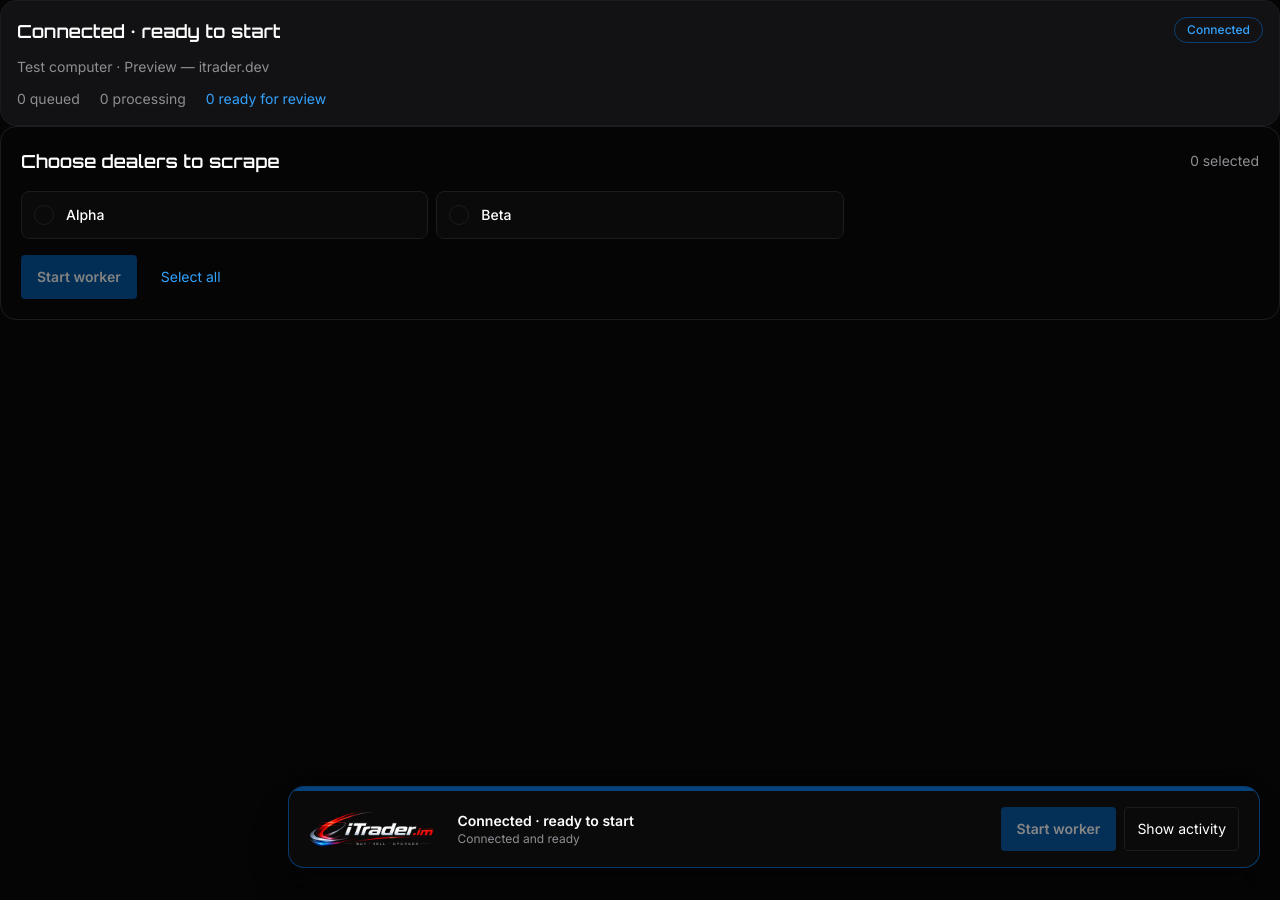
it: does not start when every queue fails and keeps partial failures when one succeeds
Click the checkbox labelled "Alpha": [225, 215] box [21,191,428,239]
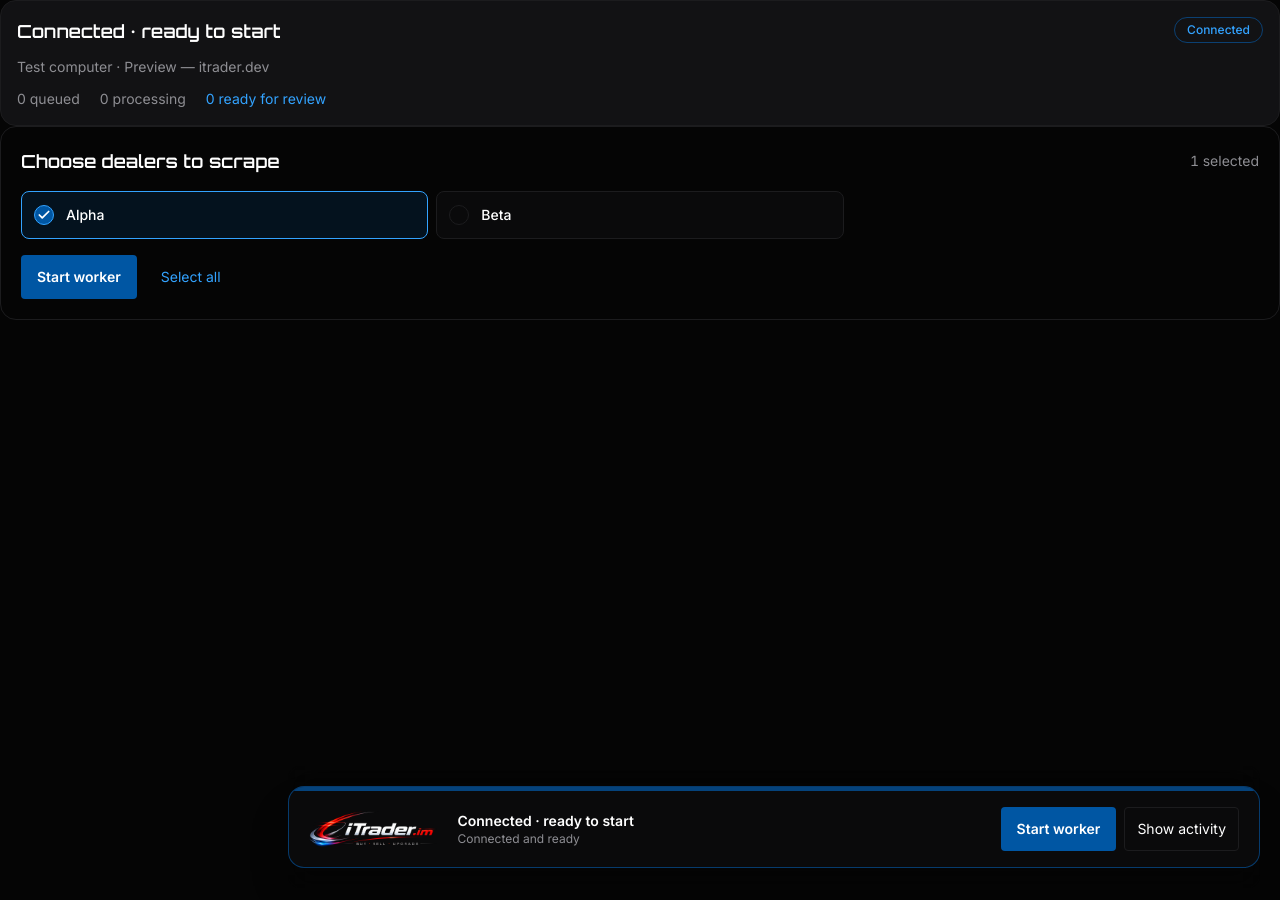
Click the button "Start worker" below "Alpha": [79, 277] box [21,255,137,299]
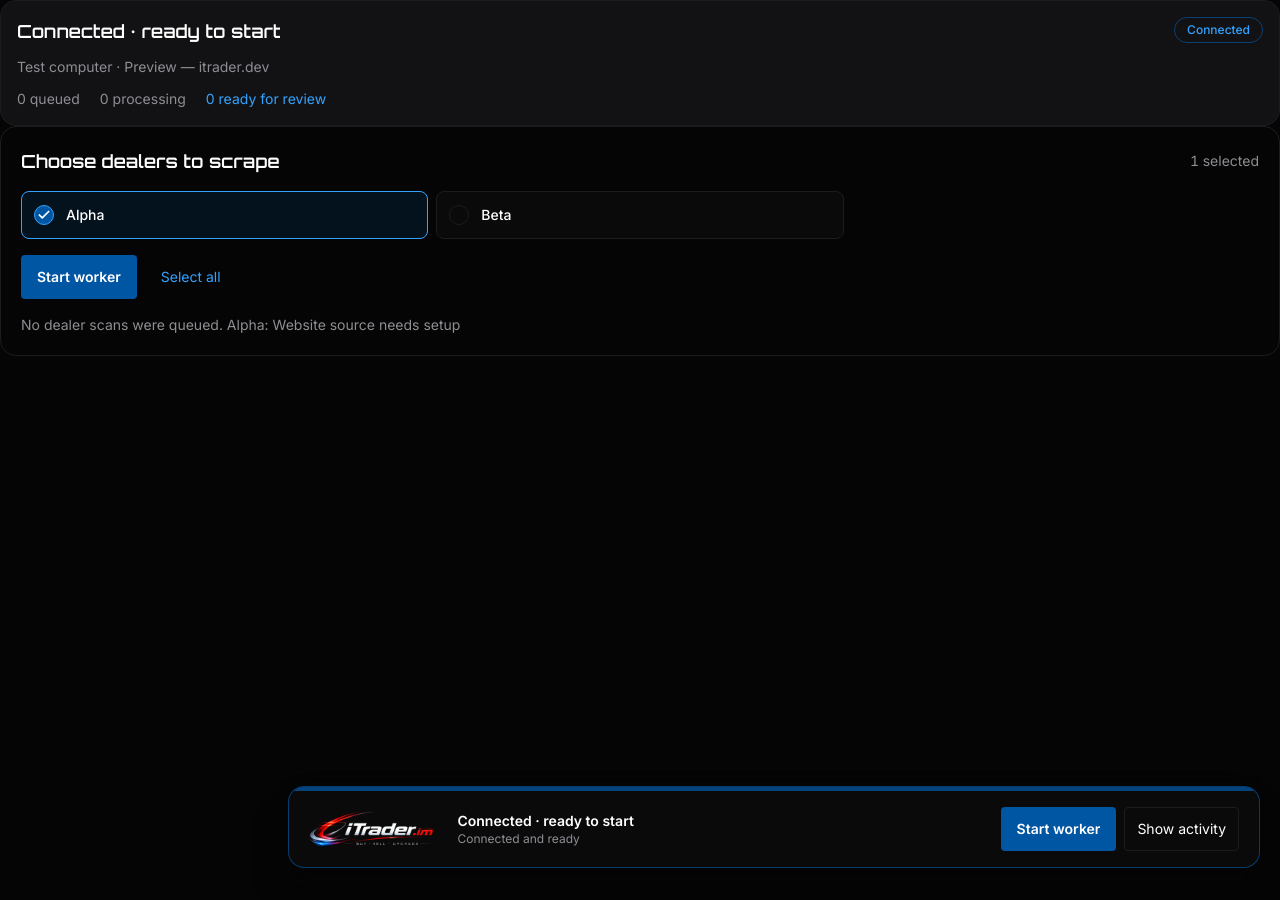
Expected: the message "No dealer scans were queued. Alpha: Website source needs setup" is shown, [21,316,460,333]
Click the checkbox labelled "Beta": [640, 215] box [436,191,844,239]
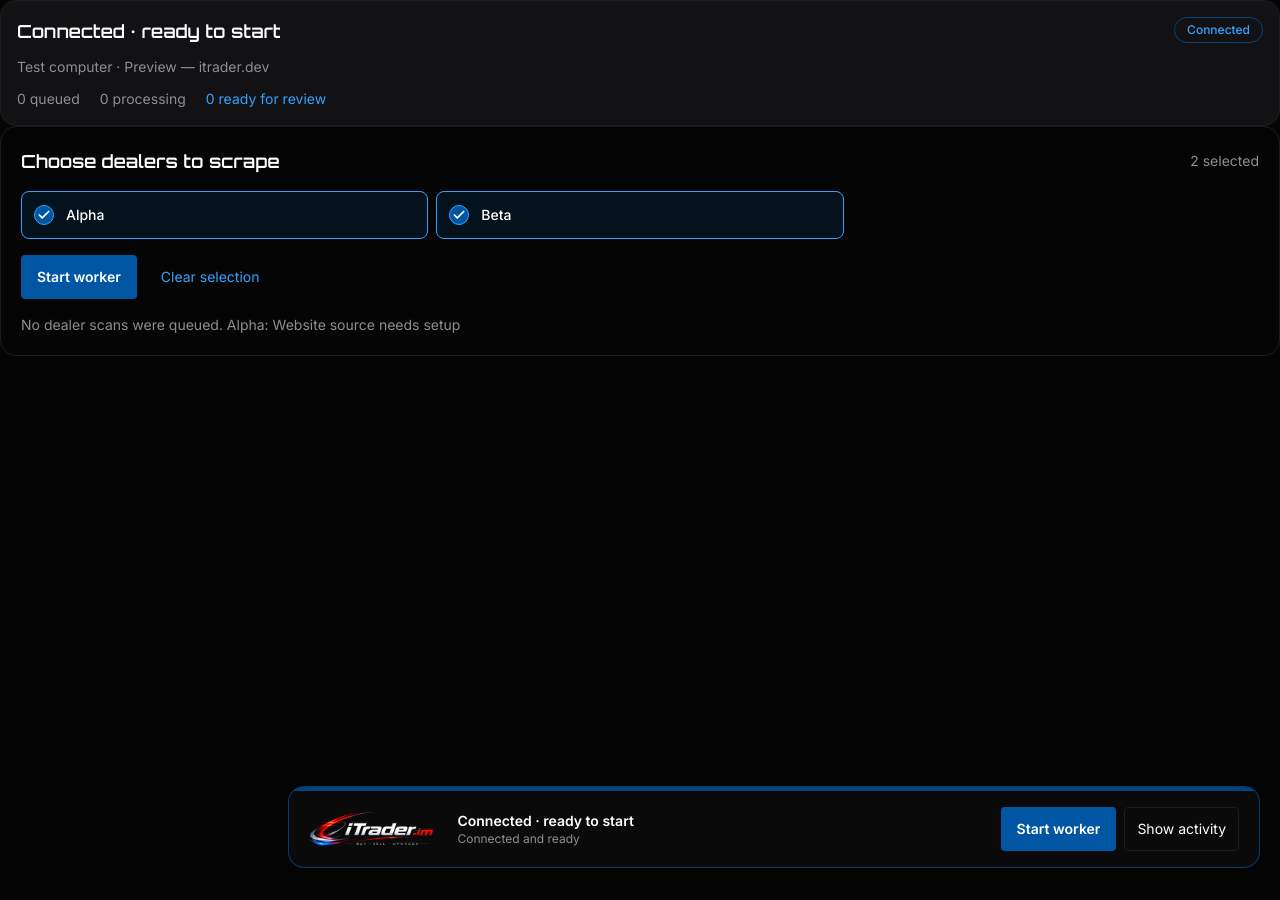
Click the button "Start worker" below "Choose dealers to scrape": [79, 277] box [21,255,137,299]
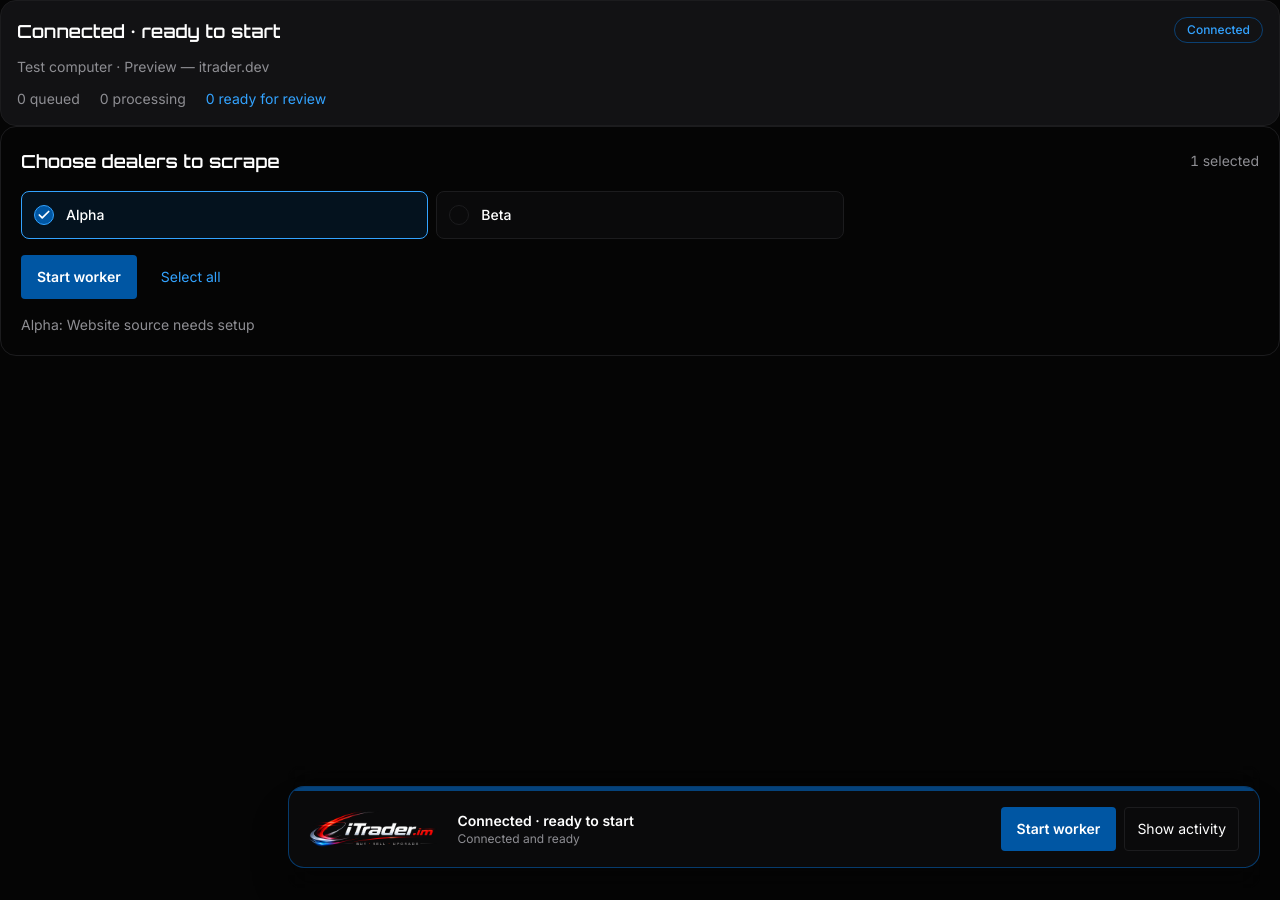
Expected: the checkbox labelled "Alpha" is checked, [21,191,428,239]
Expected: the checkbox labelled "Beta" is not checked, [436,191,844,239]
Expected: the message "Alpha: Website source needs setup" is shown, [21,316,255,333]
